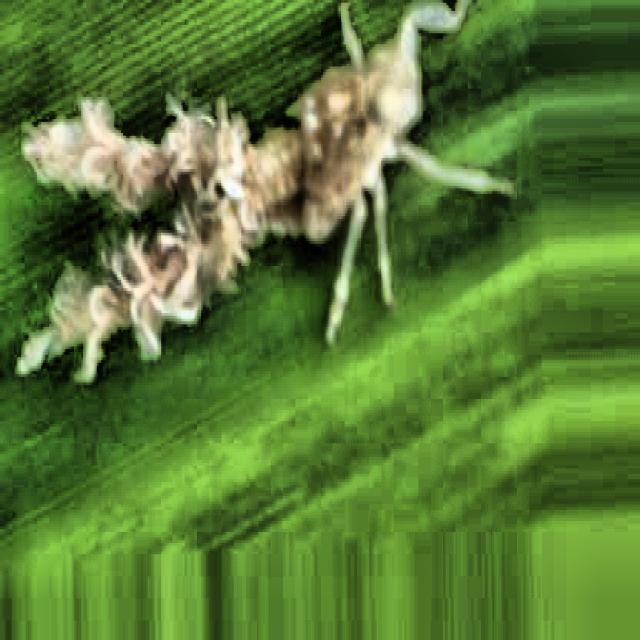Pyrilla-perpusilla: (8, 0, 530, 429)
